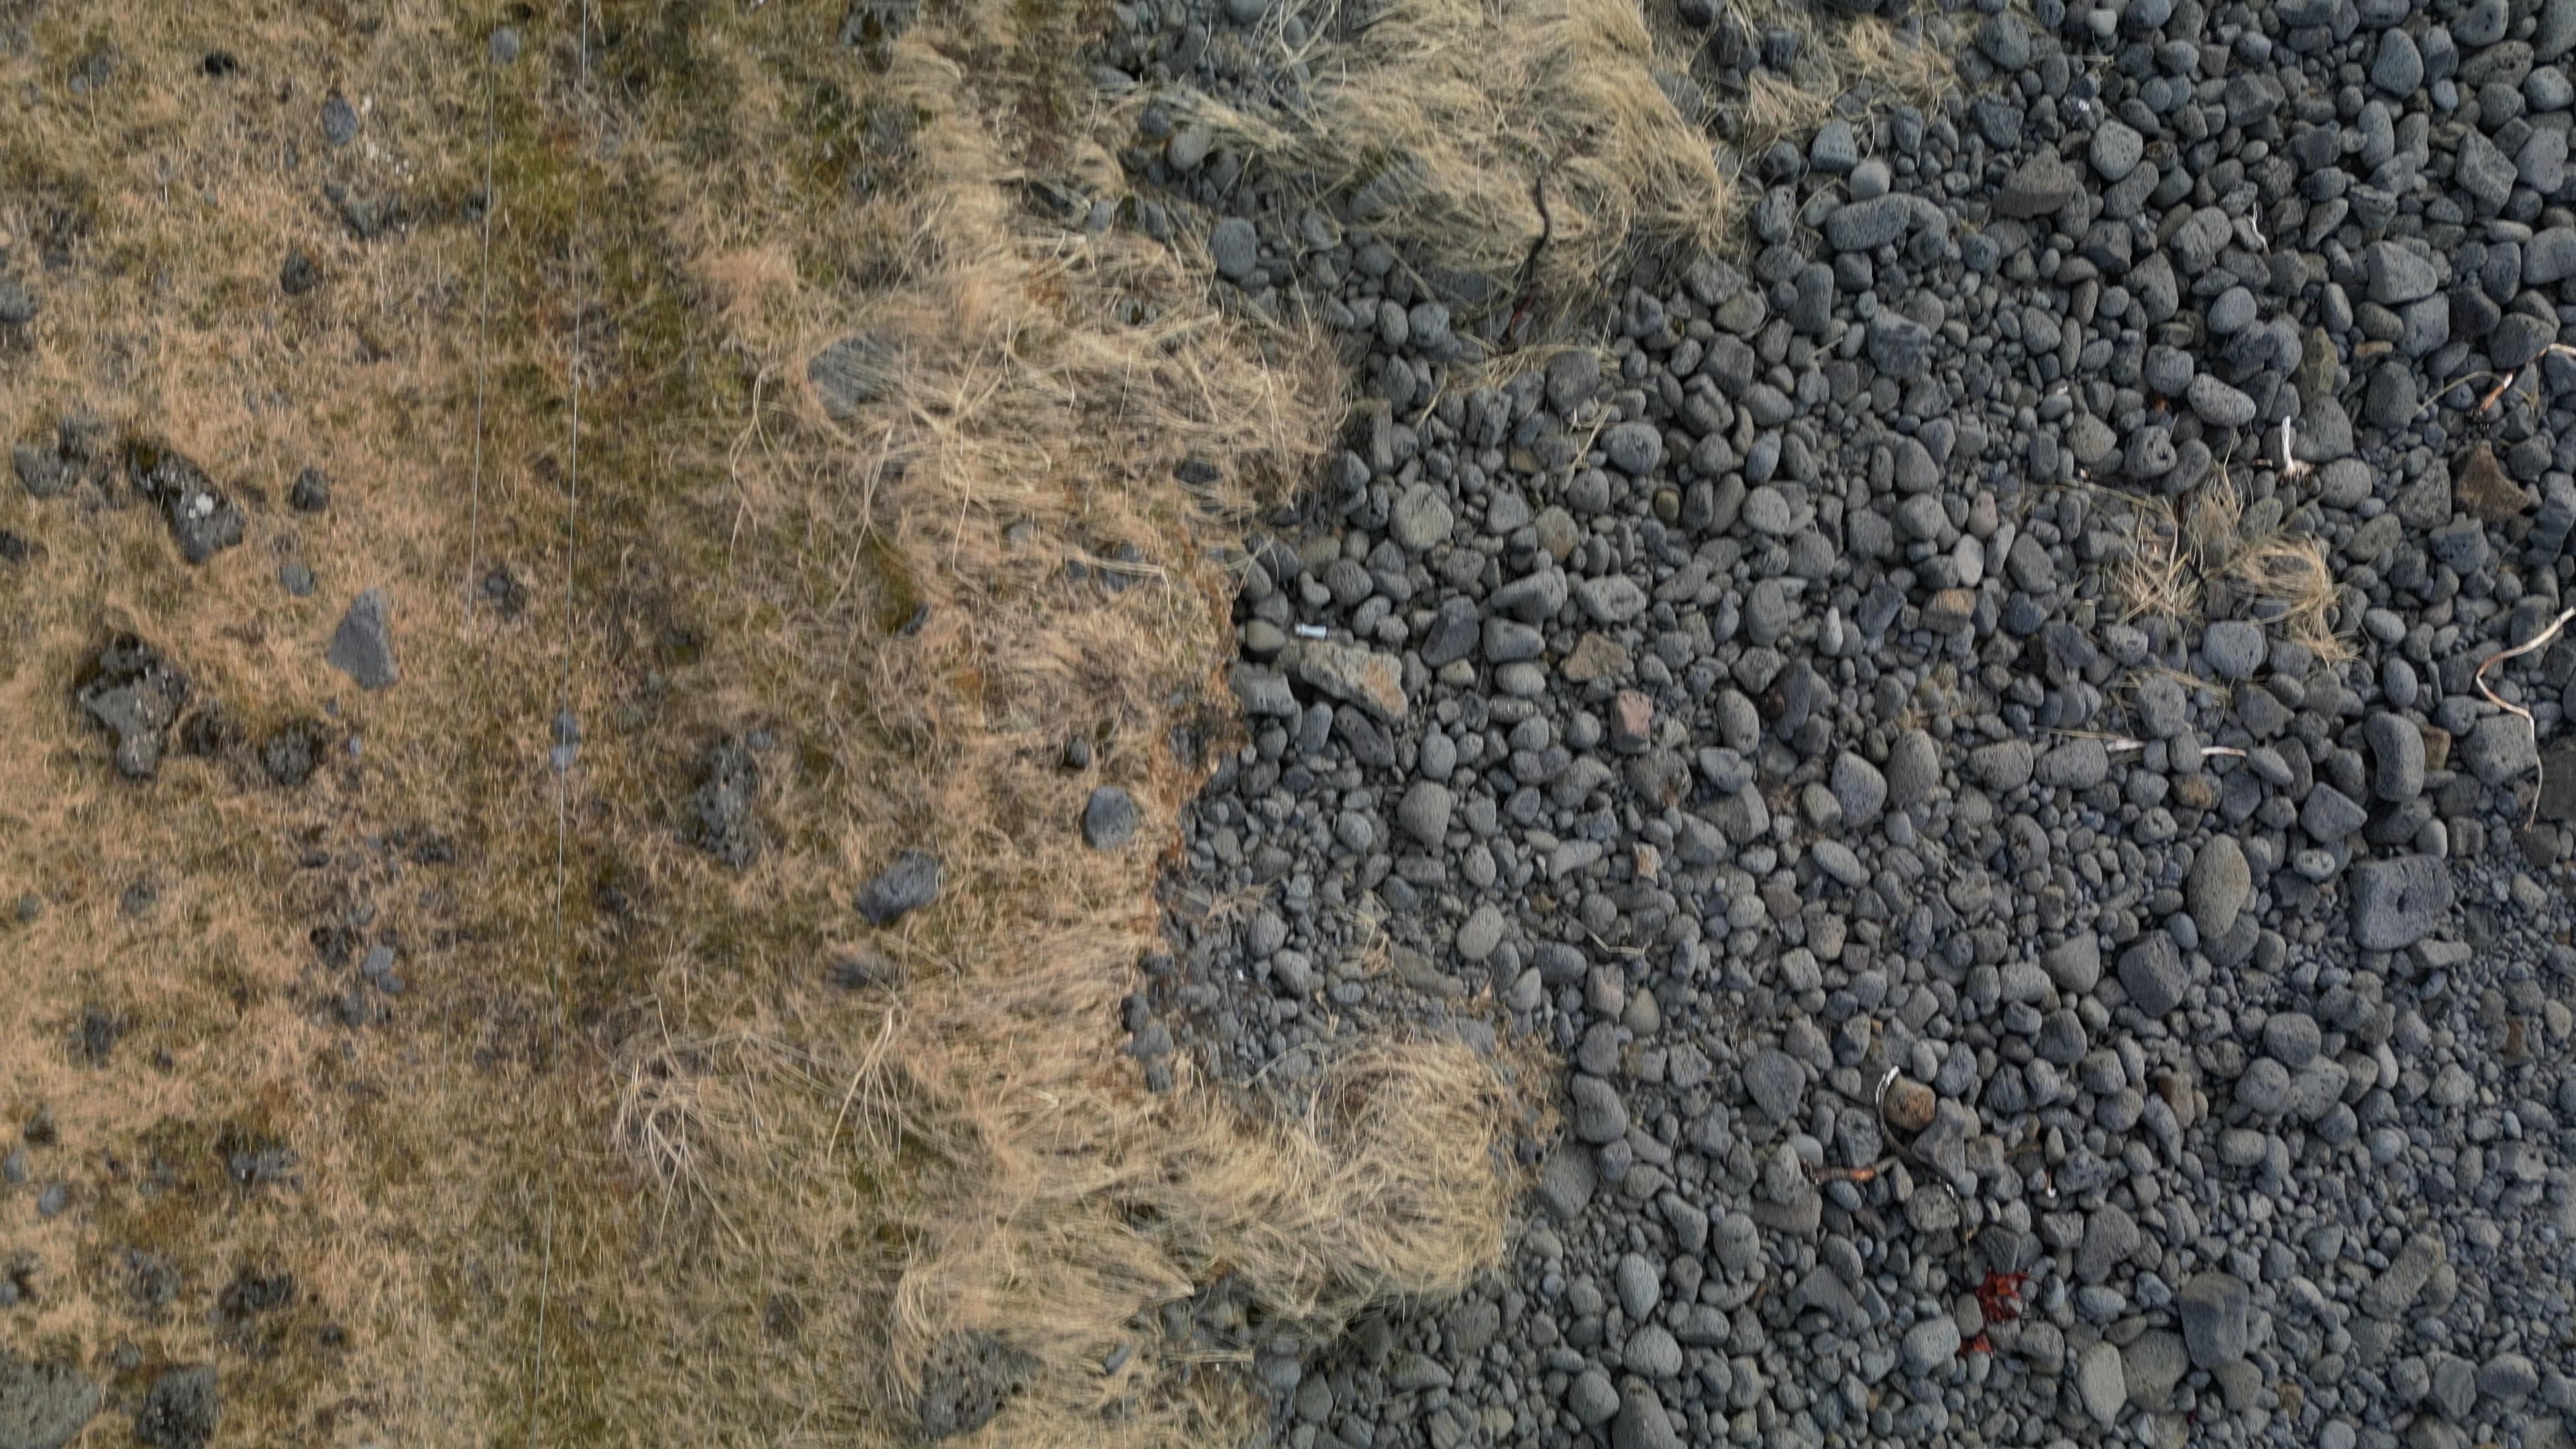trash: (1293, 625, 1329, 639)
